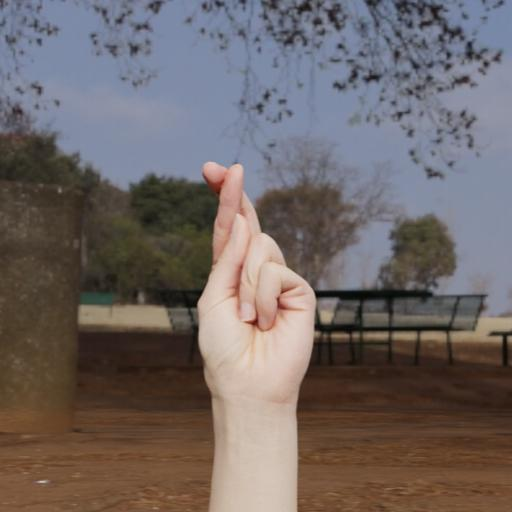R: (196, 159, 320, 399)
